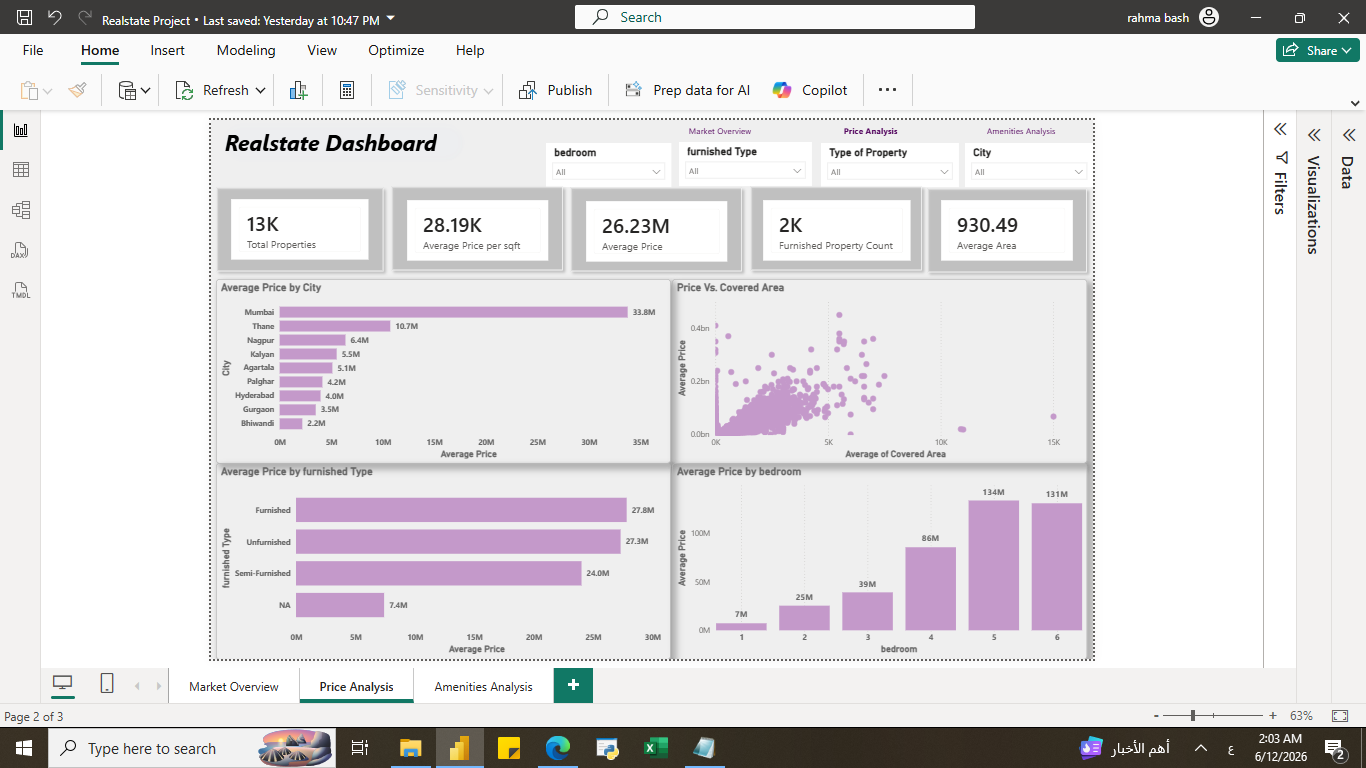

What the dashboard file says about the page in this screenshot:
{"tool":"powerbi","page":{"name":" Overview","canvas":[1400,856],"ordinal":1},"visuals":[{"type":"shape","box":[277.7,97.6,289.3,150.7],"z":0,"group":"g5"},{"type":"shape","box":[847.8,97.6,289.3,150.7],"z":0,"group":"g2"},{"type":"group","id":"g1","title":"Group 1","box":[561.5,98.8,289.3,150.7],"z":0,"group":"g6"},{"type":"shape","box":[561.5,98.8,289.3,150.7],"z":0,"group":"g1"},{"type":"shape","box":[0,99.3,282.5,150.7],"z":0,"group":"g4"},{"type":"shape","box":[1129.2,101,270.5,150.7],"z":0,"group":"g7"},{"type":"barChart","fields":{"Y":["Table.Average Price"],"Category":["properties.City"]},"box":[8.6,251.7,722.5,292.8],"z":0},{"type":"group","id":"g2","title":"Group 1","box":[847.8,97.6,289.3,150.7],"z":1000,"group":"g6"},{"type":"cardVisual","fields":{"Data":["Table.Total"]},"box":[26.8,121.6,228.8,106.1],"z":1000,"group":"g4"},{"type":"cardVisual","fields":{"Data":["Table.Average Price per sqft"]},"box":[306.6,123,234.4,106.1],"z":1000,"group":"g5"},{"type":"cardVisual","fields":{"Data":["Table.Furnished Property Count"]},"box":[871.3,123,244.8,106.1],"z":1000,"group":"g2"},{"type":"cardVisual","fields":{"Data":["Table.Average Area"]},"box":[1154.9,123.3,219.1,106.1],"z":1000,"group":"g7"},{"type":"cardVisual","fields":{"Data":["Table.Average Price"]},"box":[590.4,124.2,234.4,106.1],"z":1000,"group":"g1"},{"type":"scatterChart","title":" Price  Vs. Covered Area ","fields":{"Category":["properties.ID"],"Y":["Table.Average Price"],"X":["properties.Covered Area"]},"box":[731,251.7,659.1,292.8],"z":1000},{"type":"barChart","fields":{"Category":["properties.furnished Type"],"Y":["Table.Average Price"]},"box":[8.6,544.4,722.5,311.6],"z":2000},{"type":"columnChart","fields":{"Y":["Table.Average Price"],"Category":["properties.bedroom"]},"box":[731,544.4,659.1,311.6],"z":3000},{"type":"shape","box":[12,0,393.8,70.2],"z":4000},{"type":"slicer","fields":{"Values":["properties.City"]},"box":[1196.3,36,203.7,70.2],"z":5000},{"type":"slicer","fields":{"Values":["properties.Type of Property"]},"box":[969,36,219.1,70.2],"z":6000},{"type":"slicer","fields":{"Values":["properties.furnished Type"]},"box":[743,34.2,210.6,70.2],"z":7000},{"type":"slicer","fields":{"Values":["properties.bedroom"]},"box":[532.4,36,198.6,70.2],"z":8000},{"type":"group","id":"g3","title":"Group 2","box":[0,97.6,1399.7,154.1],"z":9000},{"type":"group","id":"g4","title":"Group 1","box":[0,99.3,282.5,150.7],"z":9000,"group":"g3"},{"type":"group","id":"g5","title":"Group 1","box":[277.7,97.6,289.3,150.7],"z":10000,"group":"g3"},{"type":"group","id":"g6","title":"Group 3","box":[561.5,97.6,575.2,152.4],"z":11000},{"type":"group","id":"g7","title":"Group 1","box":[1129.2,101,270.5,150.7],"z":11000,"group":"g3"},{"type":"pageNavigator","box":[693.4,0,707.1,36],"z":11001}]}

Visuals, with their boxes on the page's 1400x856 design canvas (x1, y1, x2, y2). These are canvas units, not pixel positions in the 1366x768 screenshot, which may show the page scaled, cropped or inside an application window:
shape: <bbox>278, 98, 567, 248</bbox>
shape: <bbox>848, 98, 1137, 248</bbox>
"Group 1" group: <bbox>562, 99, 851, 250</bbox>
shape: <bbox>562, 99, 851, 250</bbox>
shape: <bbox>0, 99, 282, 250</bbox>
shape: <bbox>1129, 101, 1400, 252</bbox>
barChart - Table.Average Price x properties.City: <bbox>9, 252, 731, 544</bbox>
"Group 1" group: <bbox>848, 98, 1137, 248</bbox>
cardVisual - Table.Total: <bbox>27, 122, 256, 228</bbox>
cardVisual - Table.Average Price per sqft: <bbox>307, 123, 541, 229</bbox>
cardVisual - Table.Furnished Property Count: <bbox>871, 123, 1116, 229</bbox>
cardVisual - Table.Average Area: <bbox>1155, 123, 1374, 229</bbox>
cardVisual - Table.Average Price: <bbox>590, 124, 825, 230</bbox>
" Price  Vs. Covered Area " scatterChart: <bbox>731, 252, 1390, 544</bbox>
barChart - properties.furnished Type x Table.Average Price: <bbox>9, 544, 731, 856</bbox>
columnChart - Table.Average Price x properties.bedroom: <bbox>731, 544, 1390, 856</bbox>
shape: <bbox>12, 0, 406, 70</bbox>
slicer - properties.City: <bbox>1196, 36, 1400, 106</bbox>
slicer - properties.Type of Property: <bbox>969, 36, 1188, 106</bbox>
slicer - properties.furnished Type: <bbox>743, 34, 954, 104</bbox>
slicer - properties.bedroom: <bbox>532, 36, 731, 106</bbox>
"Group 2" group: <bbox>0, 98, 1400, 252</bbox>
"Group 1" group: <bbox>0, 99, 282, 250</bbox>
"Group 1" group: <bbox>278, 98, 567, 248</bbox>
"Group 3" group: <bbox>562, 98, 1137, 250</bbox>
"Group 1" group: <bbox>1129, 101, 1400, 252</bbox>
pageNavigator: <bbox>693, 0, 1400, 36</bbox>
